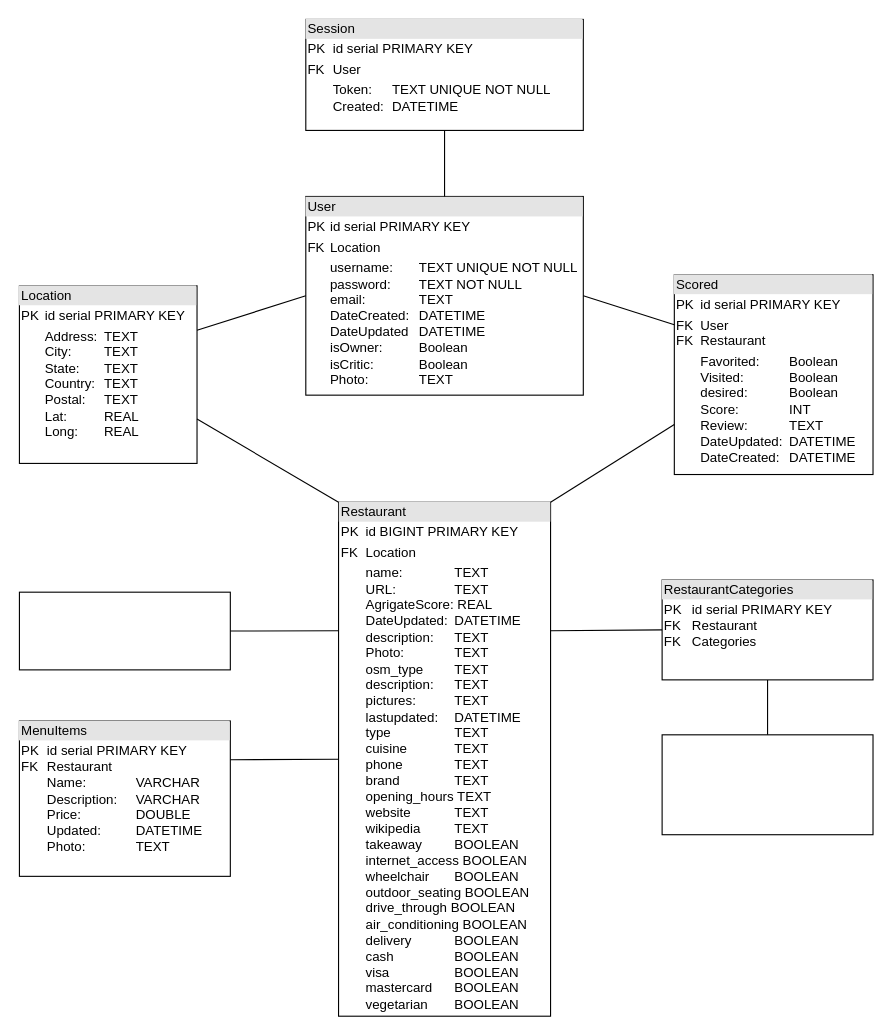
Some shapes in this 892 by 1036 pixel diagram are drawn without their labels. Here are the shapes that lost their labels. From the top down, the centre of each, then its label:
point (124, 630): Popular PK FK id serial PRIMARY KEY Restaurant created DATETIME
point (767, 784): Categories PK id serial PRIMARY KEY Name: VARCHAR description: VARCHAR
